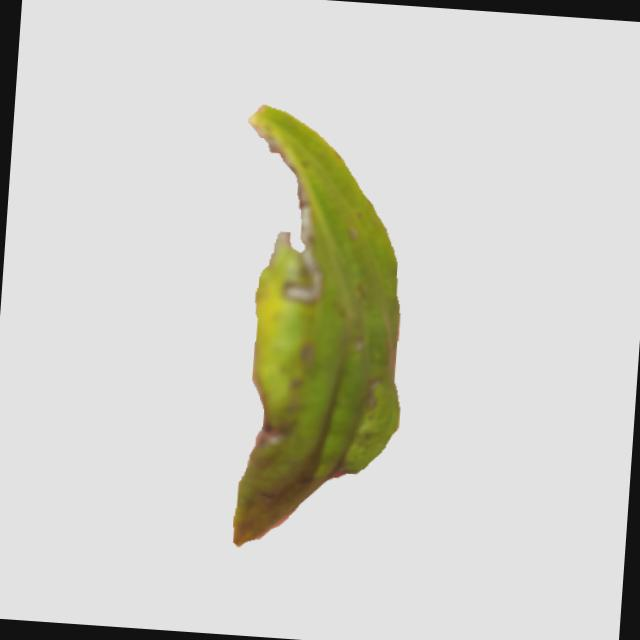yellow-mottle-virus: (215, 104, 426, 558)
